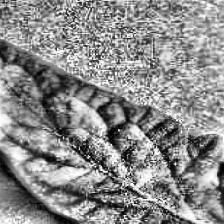leaf mold: (0, 10, 224, 224)
